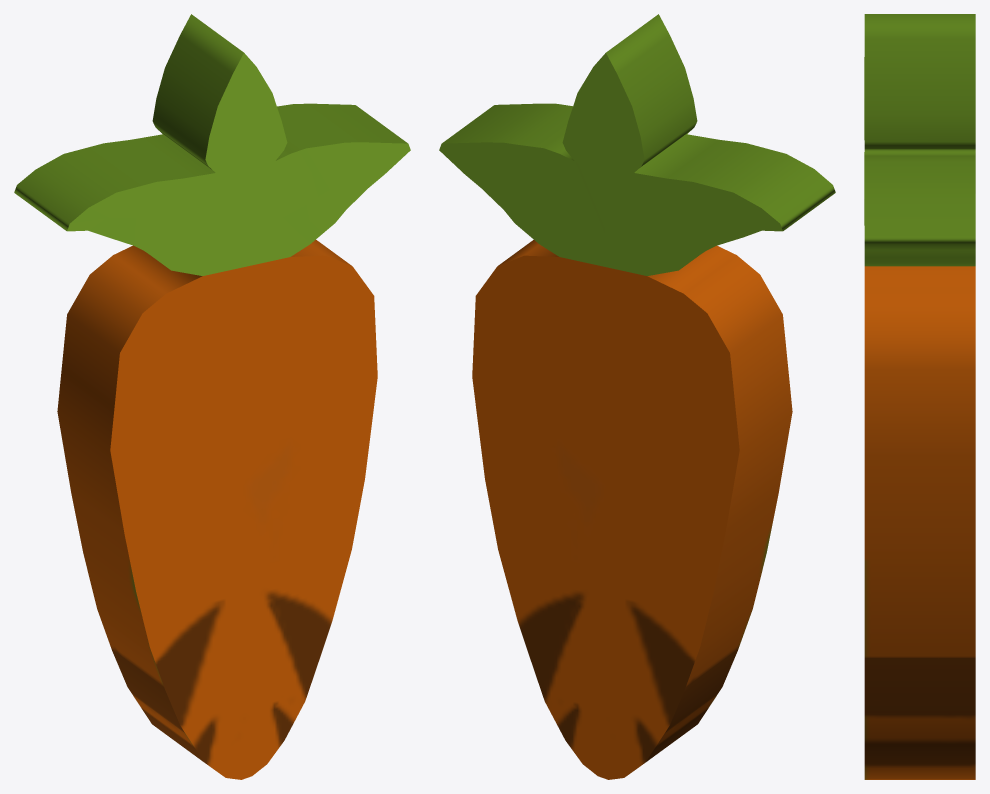
The model's file is mesh_Carrot_vp_v1.0.fbx.
The picture shows the model from 3 angles, left to right: view 1: azimuth 30°, elevation 25°; view 2: azimuth 150°, elevation 25°; view 3: azimuth 270°, elevation 25°; orthographic projection. The views are drawn at different scales.
Visible parts, largest first — view 1: Carrot; view 2: Carrot; view 3: Carrot.
Part boxes in pixels (<box>): Carrot: <box>14,14,410,779</box>; Carrot: <box>439,14,835,779</box>; Carrot: <box>864,14,975,779</box>.
Size of the model in its own units: 0.4704 by 0.9498 by 0.1257.
